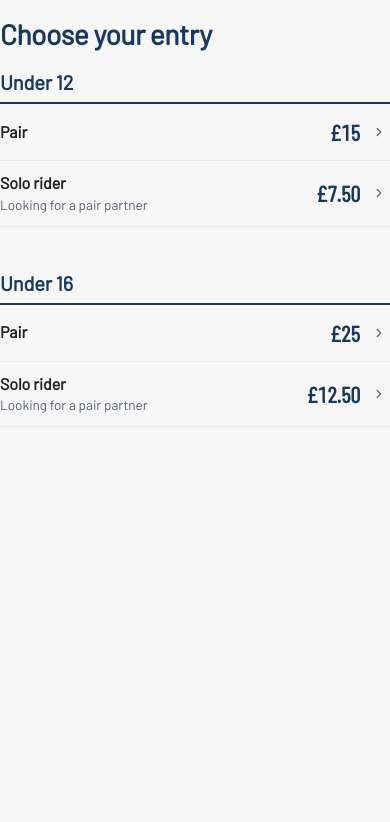
the entry page › lets a signed-in member pick an age group and go on to their details
Click the link "Pair £15" at (345, 132), box left=0, top=119, right=386, bottom=145
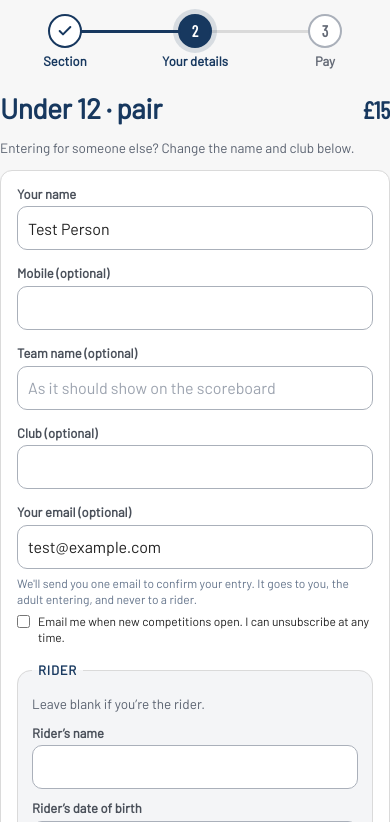
Expected: the field labelled "Your name" is shown, left=17, top=206, right=373, bottom=250
